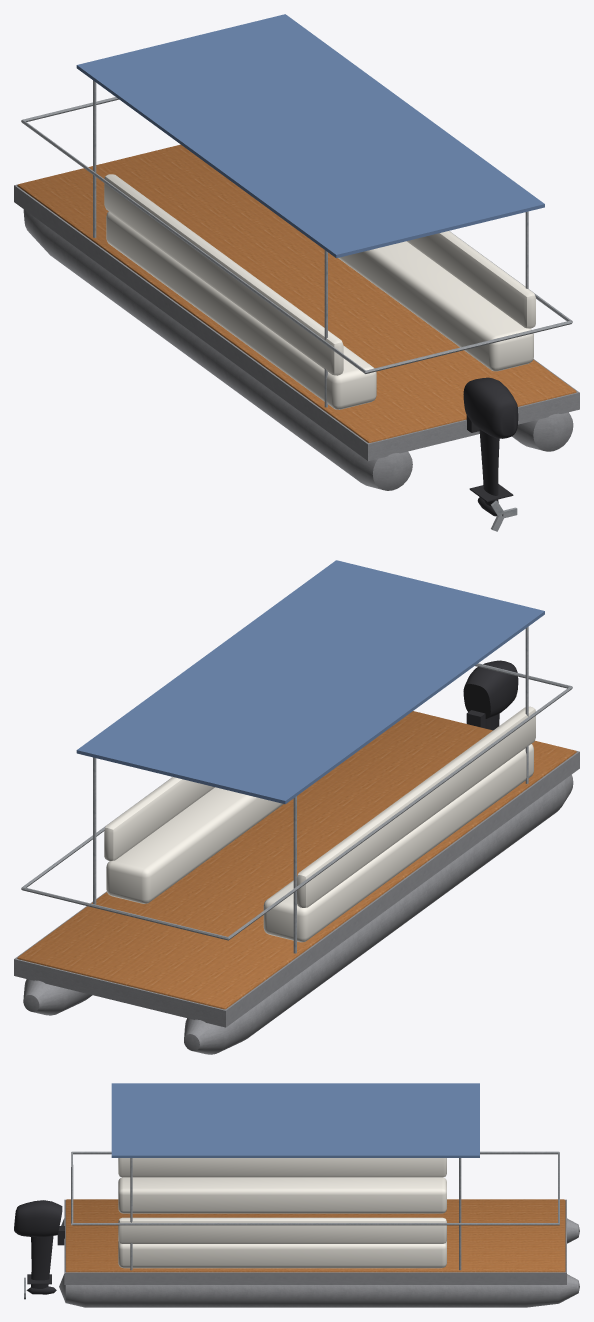
The model's file is boat_pontoon.gltf.
3 views of the same model, one above another, from view 1: azimuth 30°, elevation 25°; view 2: azimuth 150°, elevation 25°; view 3: azimuth 270°, elevation 25° (orthographic). The views are drawn at different scales.
Visible parts, largest first — view 1: boat_pontoon; view 2: boat_pontoon; view 3: boat_pontoon.
Part boxes in pixels (x1,y1,x2,y2): boat_pontoon: [14, 14, 579, 531]; boat_pontoon: [14, 560, 579, 1054]; boat_pontoon: [14, 1083, 579, 1307].
Bounding box in the file's own units: 2.64 × 3.05 × 8.6.
6 materials, 3 textured.
